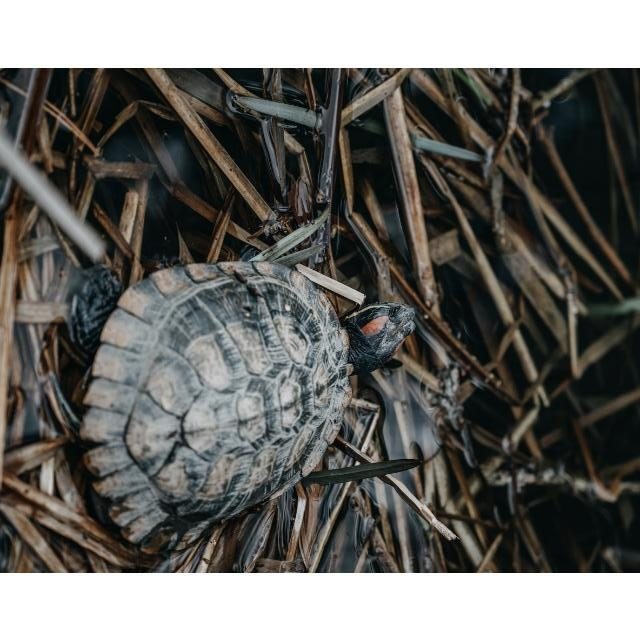turtle: (73, 257, 418, 547)
